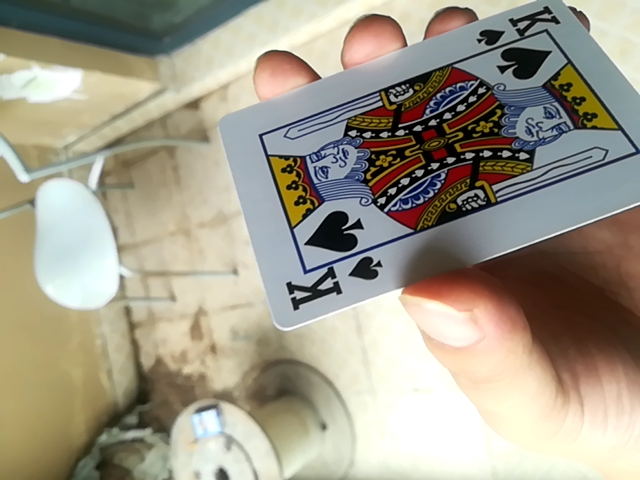ht k: (214, 3, 640, 330)
